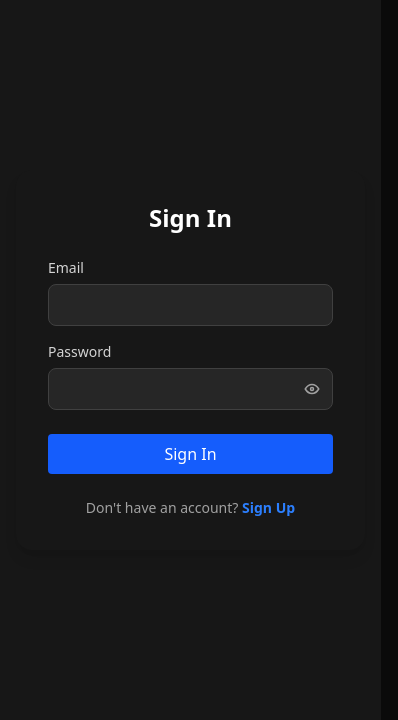
Scenario: editing a field after an error clears the error (REQ-11)
In the field labelled "Email": {"x": 190, "y": 305} [48, 284, 333, 326], type "coach@club.pt"
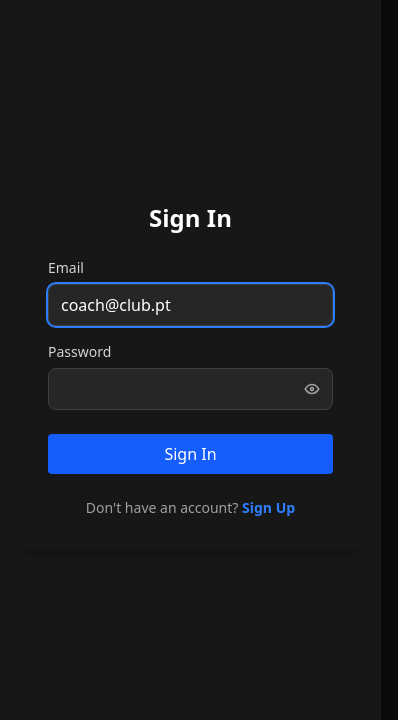
In the password field labelled "Password": {"x": 190, "y": 389} [48, 368, 333, 410], type "wrong"
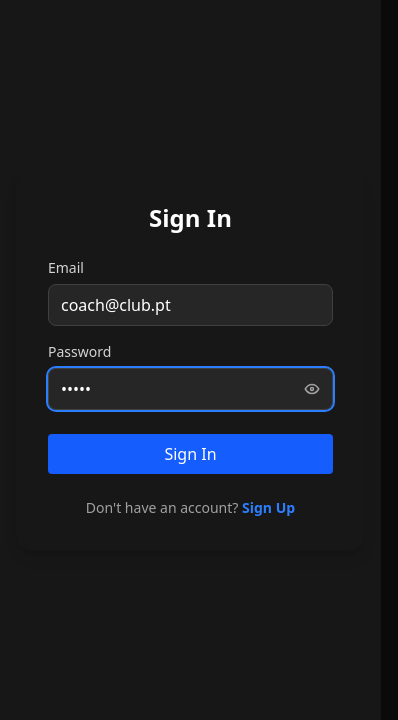
Click the button "Sign In": {"x": 190, "y": 454} [48, 434, 333, 474]
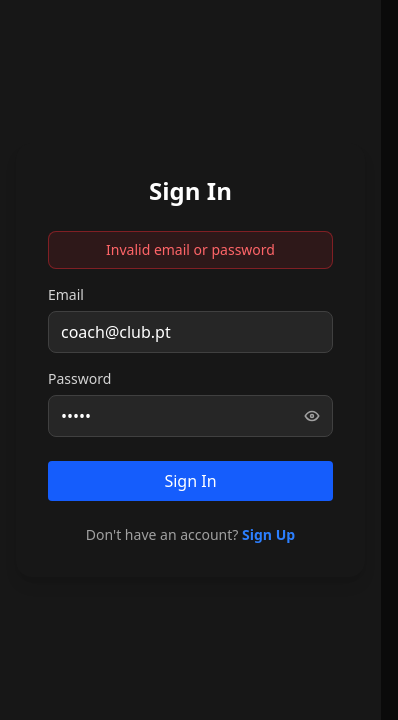
Expected: the message "Invalid email or password" is shown, [48, 231, 333, 269]
In the password field labelled "Password": {"x": 190, "y": 416} [48, 395, 333, 437], type "x"
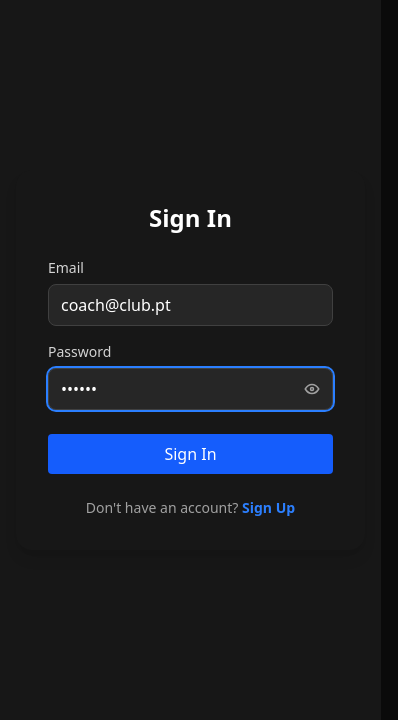
Expected: the message "Invalid email or password" is gone
